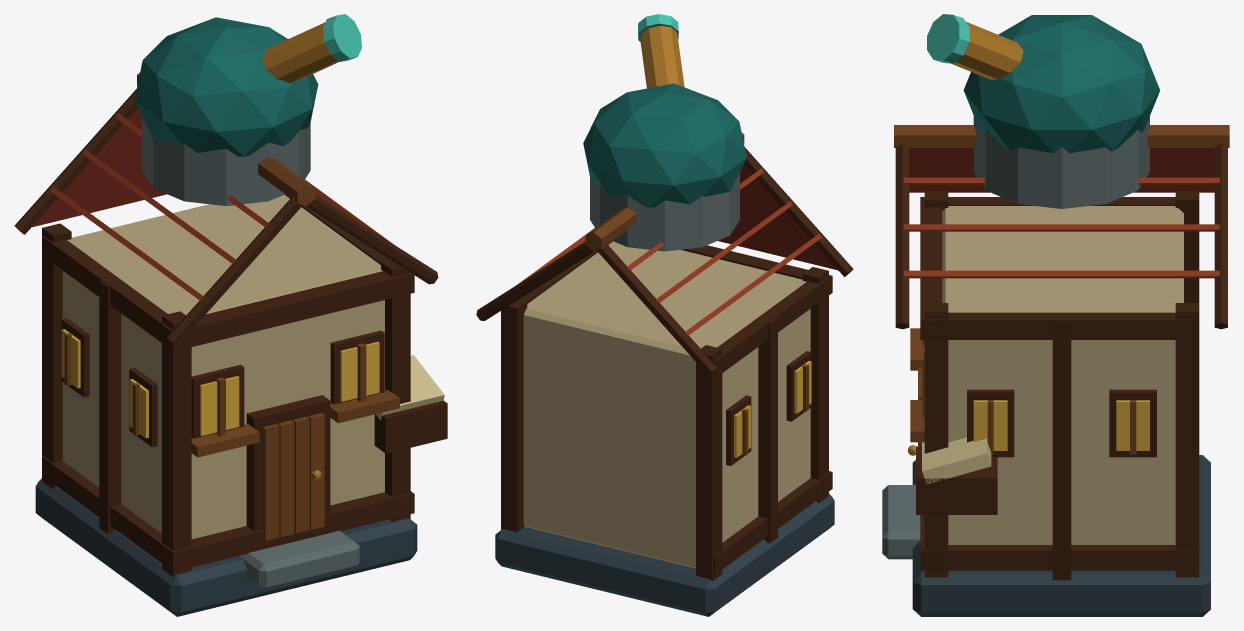
File: Research.fbx
The picture shows the model from 3 angles, left to right: view 1: azimuth 30°, elevation 25°; view 2: azimuth 150°, elevation 25°; view 3: azimuth 270°, elevation 25°; orthographic projection. The views are drawn at different scales.
Visible parts, largest first — view 1: Research_Mesh; view 2: Research_Mesh; view 3: Research_Mesh.
Boxes of the visible parts, x1,y1,x2,y2 form: Research_Mesh: (14,14,447,616); Research_Mesh: (476,14,853,616); Research_Mesh: (882,14,1229,616).
Size of the model in its own units: 1.02 by 1.86 by 1.03.
